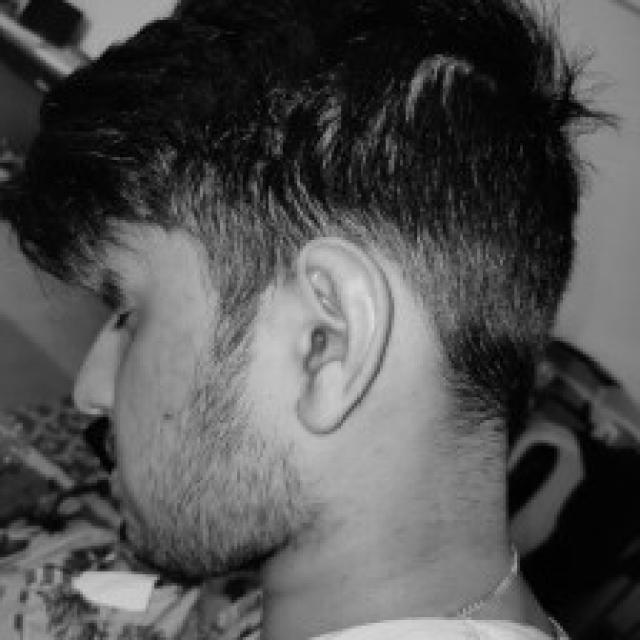ear: (297, 240, 386, 431)
